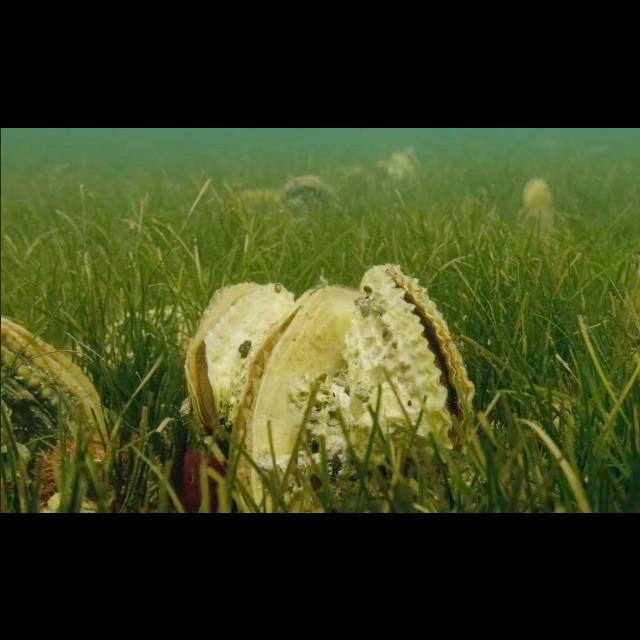Oyster-Closed: (0, 314, 114, 512), (278, 171, 336, 211)
Oyster-Open: (339, 262, 476, 496), (226, 281, 358, 513), (182, 280, 296, 452), (520, 174, 554, 222), (388, 144, 422, 182)
